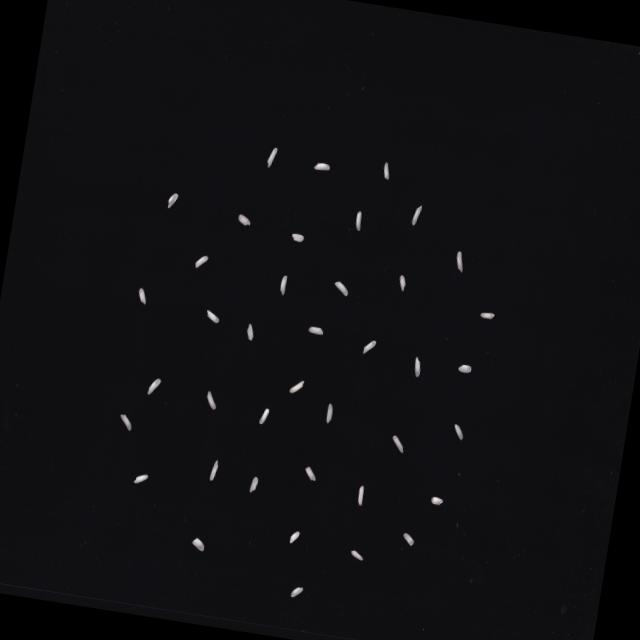Chalky: (146, 377, 161, 397), (265, 146, 277, 170), (116, 413, 132, 431), (204, 390, 218, 410), (390, 434, 404, 454), (288, 378, 304, 395), (331, 280, 348, 296), (362, 338, 376, 356), (410, 204, 421, 226), (454, 250, 464, 274), (190, 536, 205, 552), (194, 253, 208, 270), (203, 310, 220, 324), (208, 459, 218, 482), (257, 407, 269, 426), (132, 472, 148, 486), (302, 466, 316, 482), (324, 402, 334, 424), (243, 322, 254, 342), (412, 356, 422, 378), (166, 192, 178, 210), (136, 288, 148, 306), (236, 214, 251, 228), (401, 532, 415, 547), (247, 475, 258, 494), (353, 209, 362, 232), (288, 585, 302, 599), (348, 550, 364, 562), (452, 424, 464, 440), (381, 162, 391, 180), (312, 162, 330, 172), (278, 274, 286, 296), (356, 484, 364, 506), (306, 326, 323, 336), (396, 275, 406, 292), (288, 530, 299, 545), (456, 363, 471, 374), (479, 310, 494, 320), (290, 233, 304, 243), (430, 496, 442, 506)
